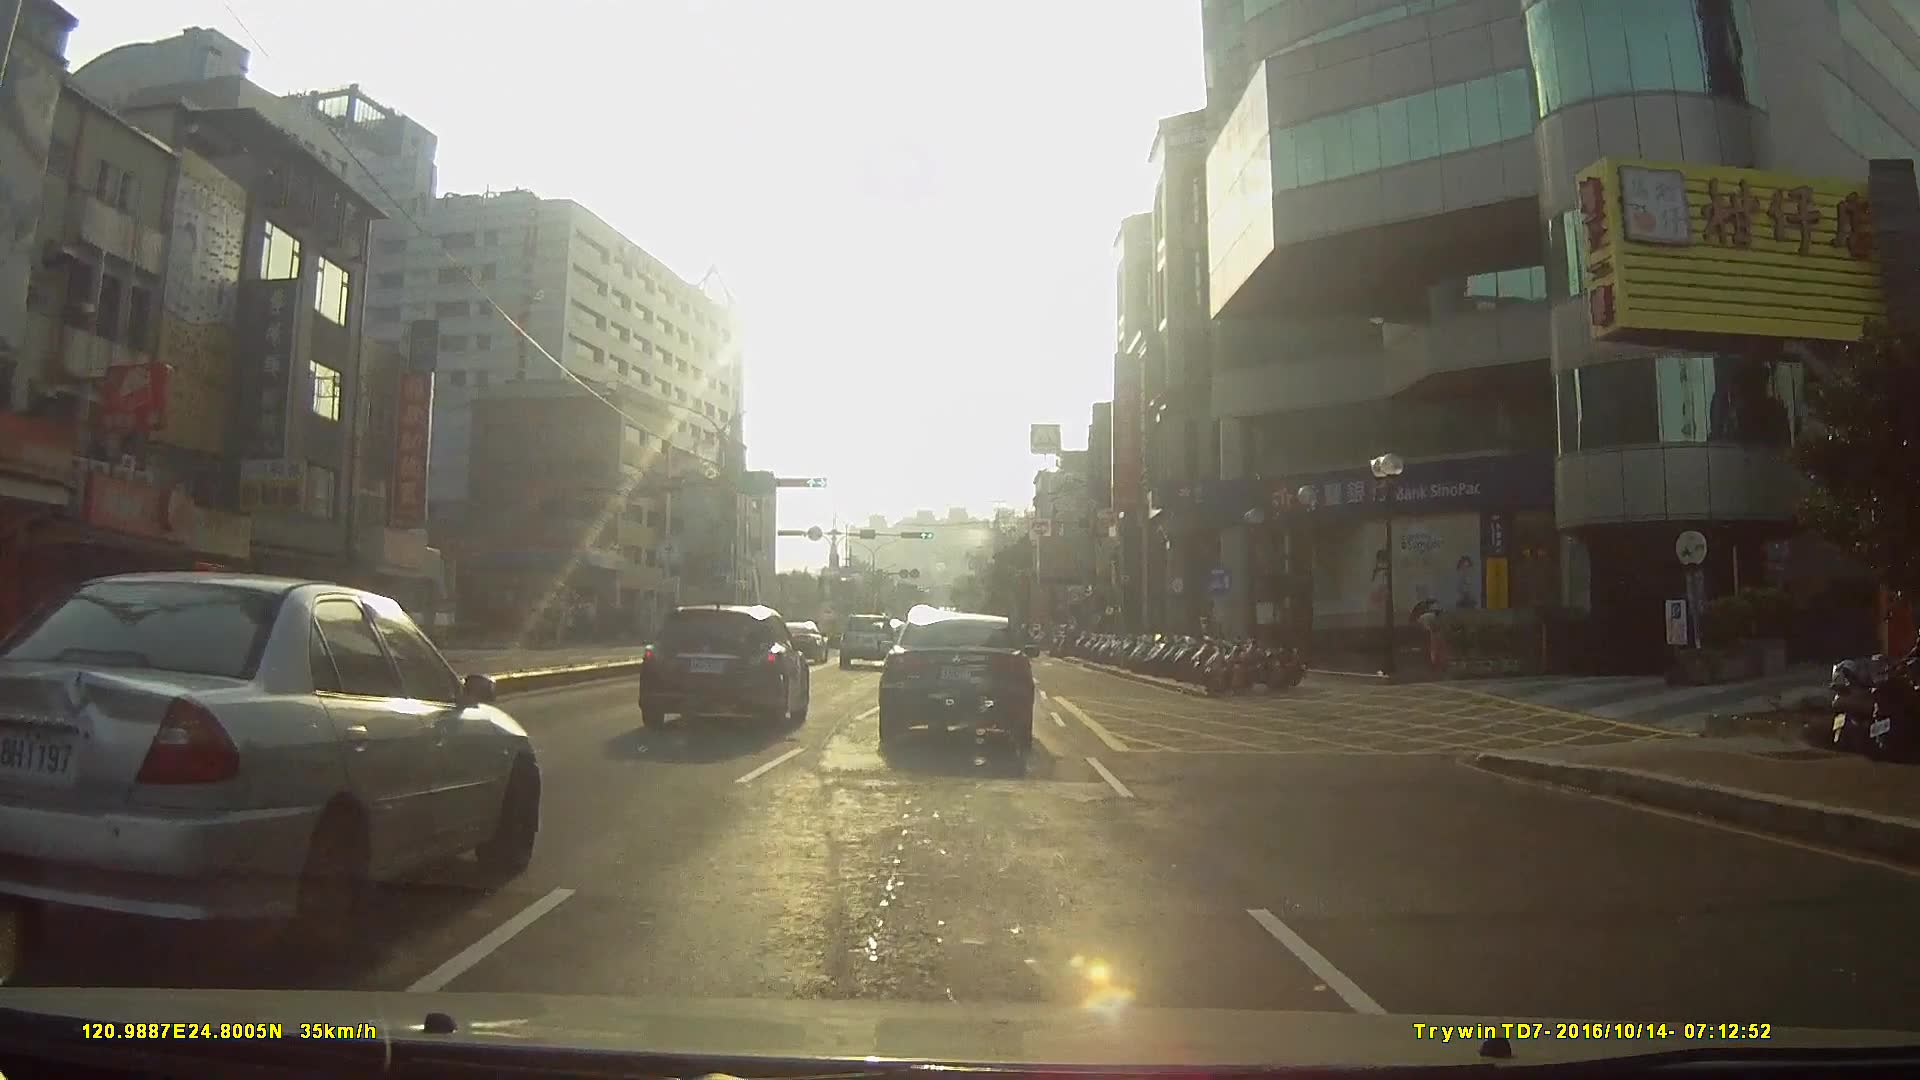pedestrian: (1425, 591, 1456, 679), (1415, 595, 1440, 668)
vehicle: (0, 564, 534, 963), (631, 593, 806, 727), (875, 609, 1035, 754), (833, 607, 895, 668), (769, 615, 822, 662)
